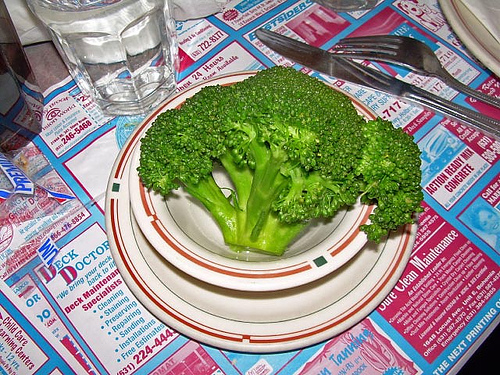broccoli: (138, 65, 365, 257), (367, 117, 424, 242)
